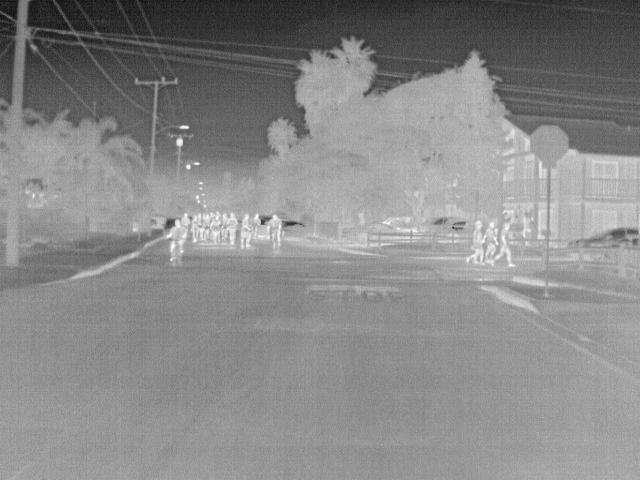car: (339, 219, 395, 244), (586, 226, 638, 250), (281, 220, 307, 241), (565, 239, 584, 251)
person: (462, 220, 486, 264), (495, 221, 517, 268), (165, 219, 185, 256), (483, 220, 497, 266), (236, 213, 252, 247), (208, 214, 224, 244), (224, 211, 238, 244), (269, 214, 283, 244), (249, 212, 261, 238)
